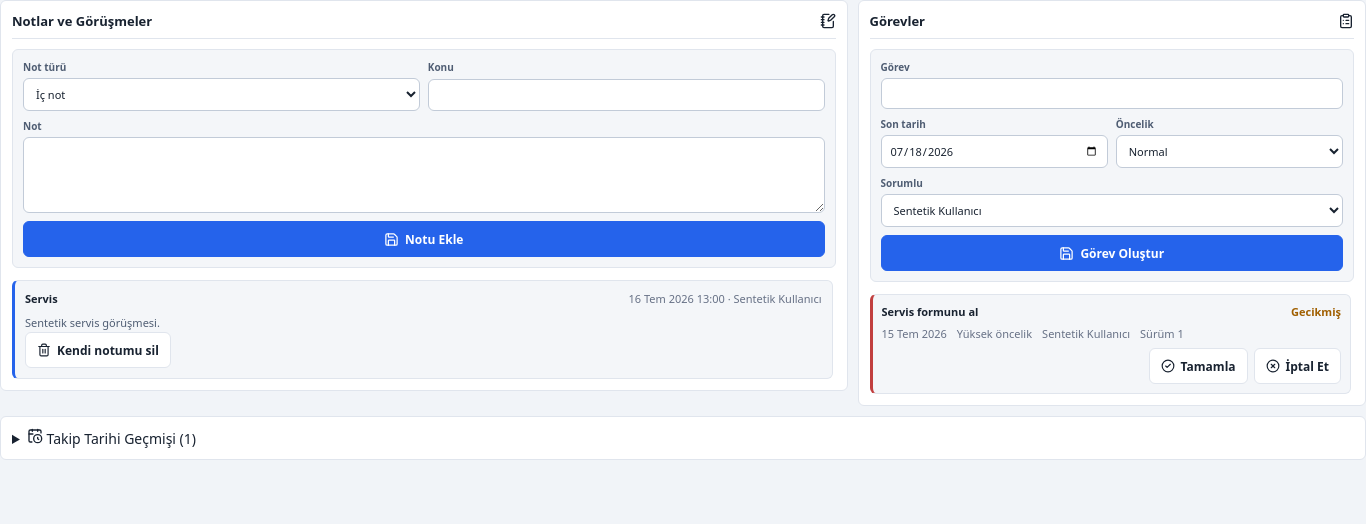
Case Operations gerçek API modülü › sunucu silmeyi reddederse notu korur ve yetki hatasını gösterir
Click the button "Kendi notumu sil".
click(98, 350)  # box x1=25 y1=332 x2=171 y2=368
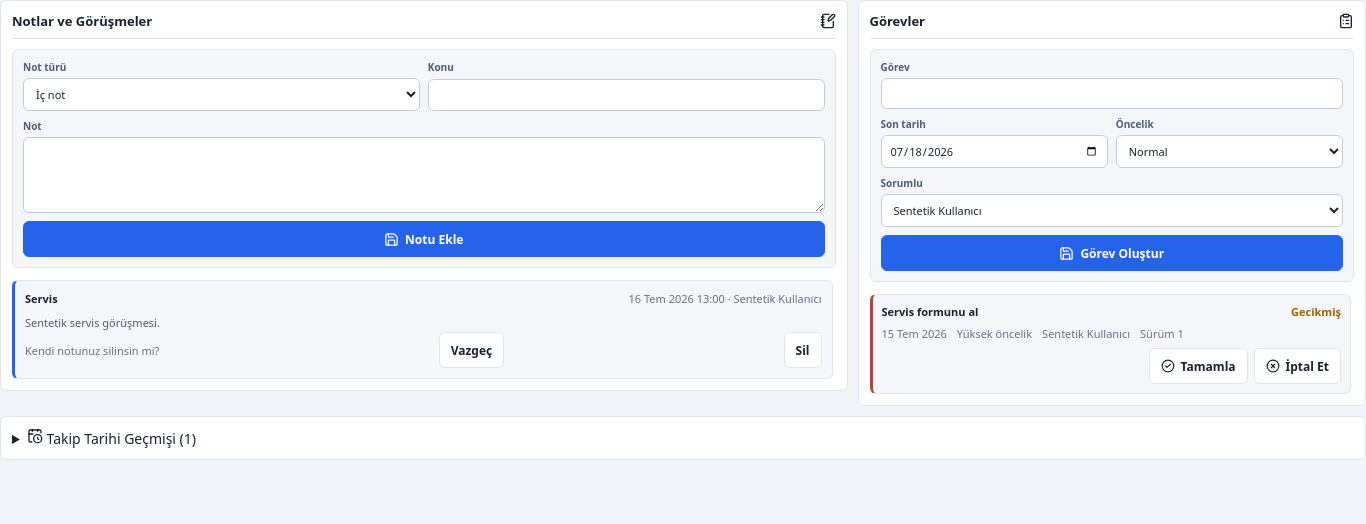
Click the button "Sil".
click(803, 350)  # box x1=784 y1=332 x2=822 y2=368
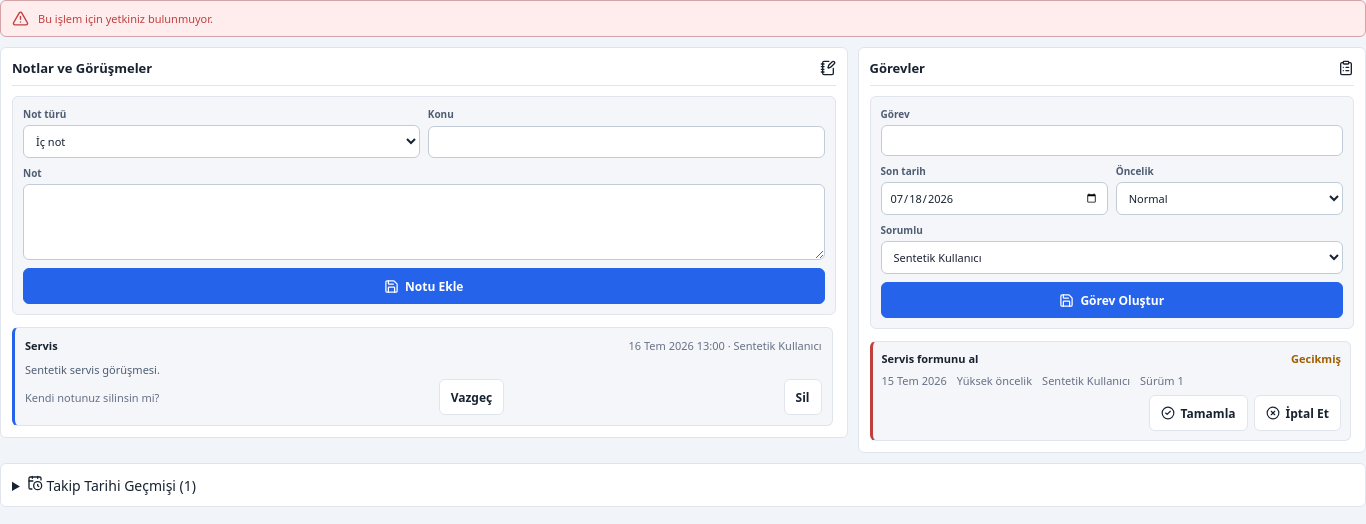
Expected: the text "Sentetik servis görüşmesi." is shown, x1=25 y1=362 x2=160 y2=377
Result: the message reads "Bu işlem için yetkiniz bulunmuyor." at x1=38 y1=11 x2=213 y2=26
